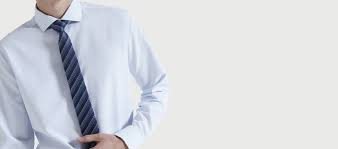F_shirt: (1, 2, 172, 149)
F_tie: (48, 18, 104, 148)
